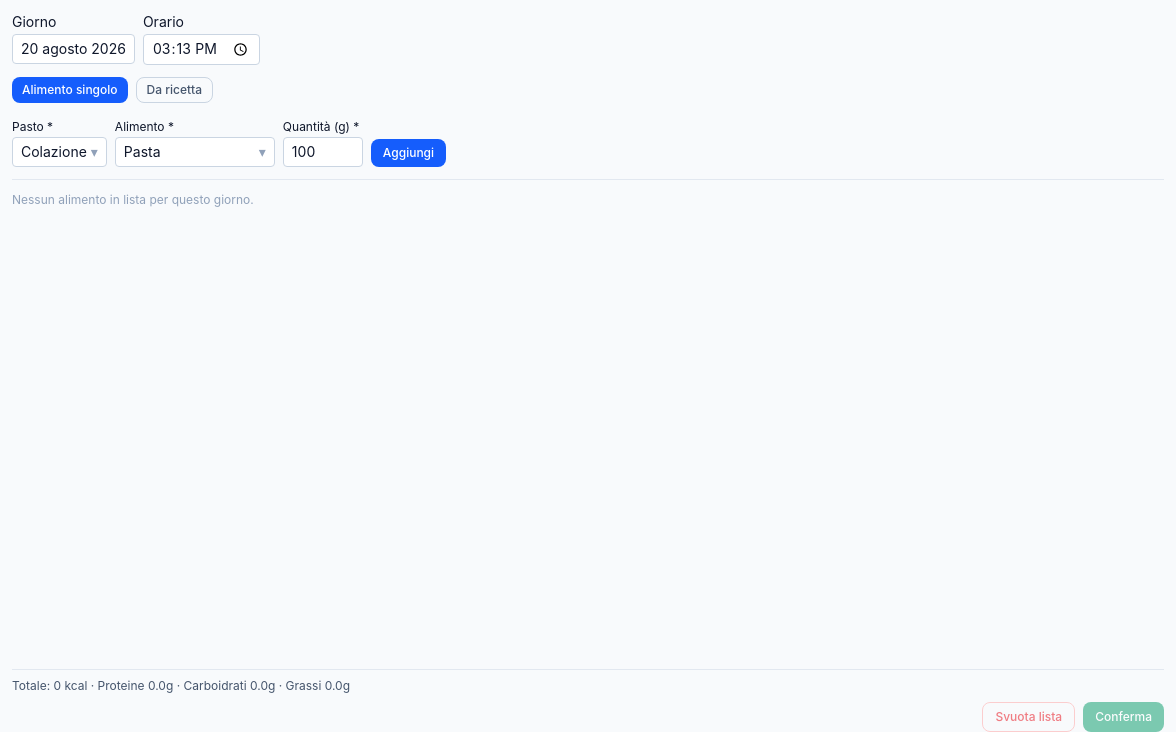
Test case: RegistraPastoPanel › RegistraPastoPanel_modalitaDaRicetta_aggiungeUnaRigaPerOgniIngredienteDellaRicetta
The width and height of the screenshot is (1176, 732).
Expected: the button named "Pasto *" is shown, [12,137,107,167]
Step 1. Click the button "Da ricetta" → (174, 90), box [136,77,213,103]
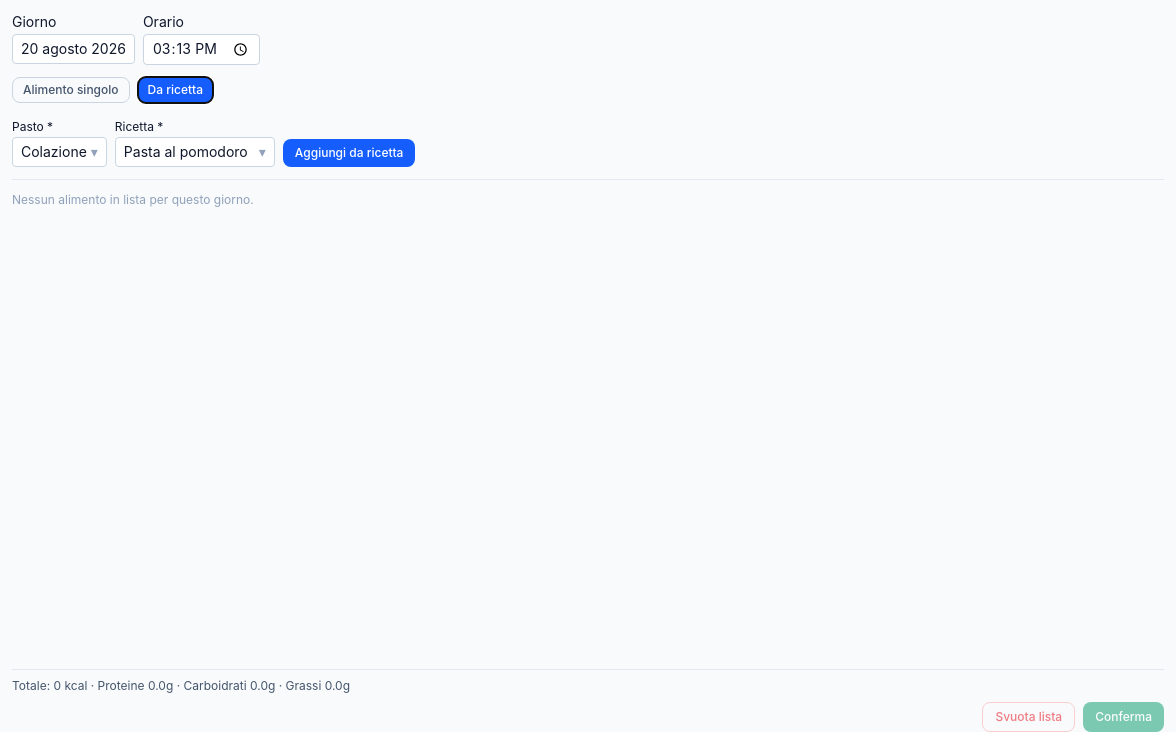
Step 2. Click the button "Aggiungi da ricetta" → (349, 153), box [283,139,416,167]
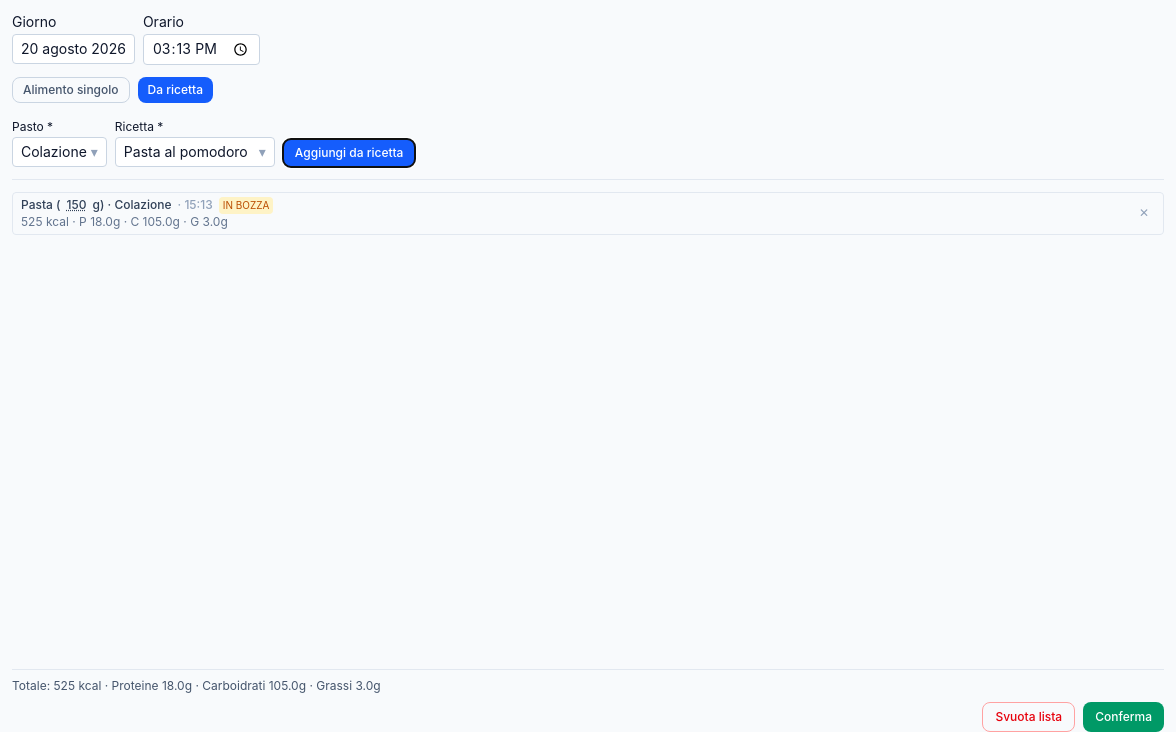
Expected: the text "in bozza" is shown, [219,197,273,214]
Expected: the button "150" is shown, [66,197,86,213]
